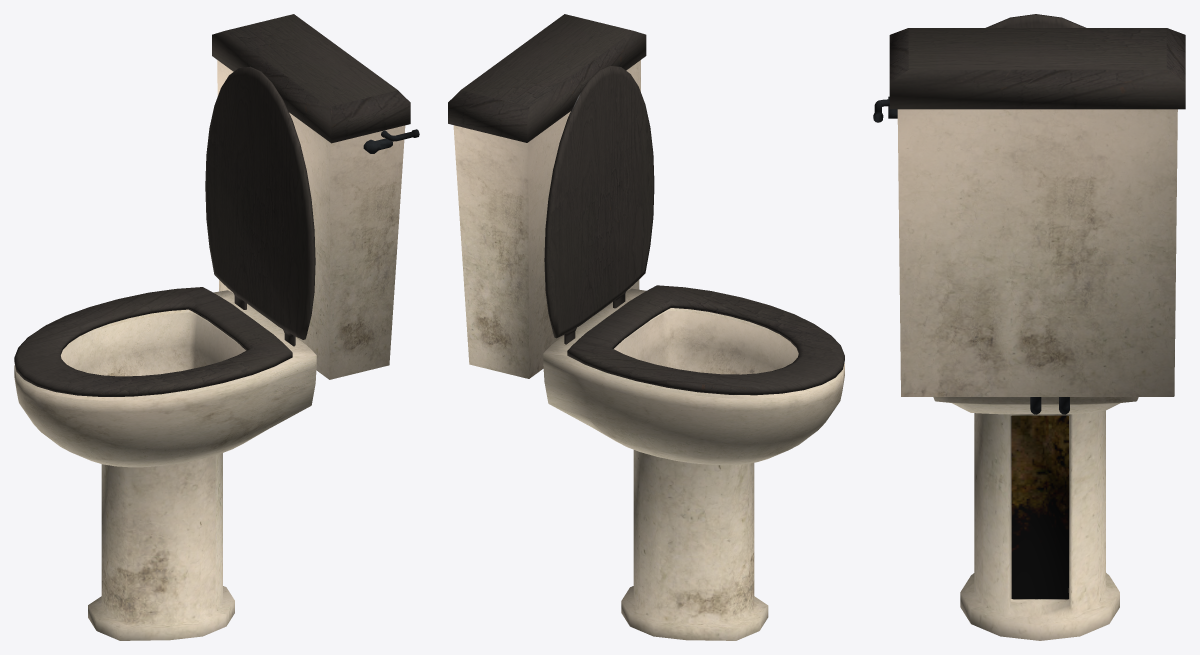
The model's file is FPH_Toilet.fbx.
3 renders of one model, left to right at view 1: azimuth 30°, elevation 25°; view 2: azimuth 150°, elevation 25°; view 3: azimuth 270°, elevation 25°, orthographic. The views are drawn at different scales.
Visible parts, largest first — view 1: FPH_Toilet; view 2: FPH_Toilet; view 3: FPH_Toilet.
Boxes of the visible parts, bbox=[...] form: FPH_Toilet: bbox=[14, 14, 419, 640]; FPH_Toilet: bbox=[448, 14, 844, 640]; FPH_Toilet: bbox=[873, 14, 1185, 640].
Size of the model in its own units: 4.11 by 6.21 by 2.72.
1 material, 1 textured.
